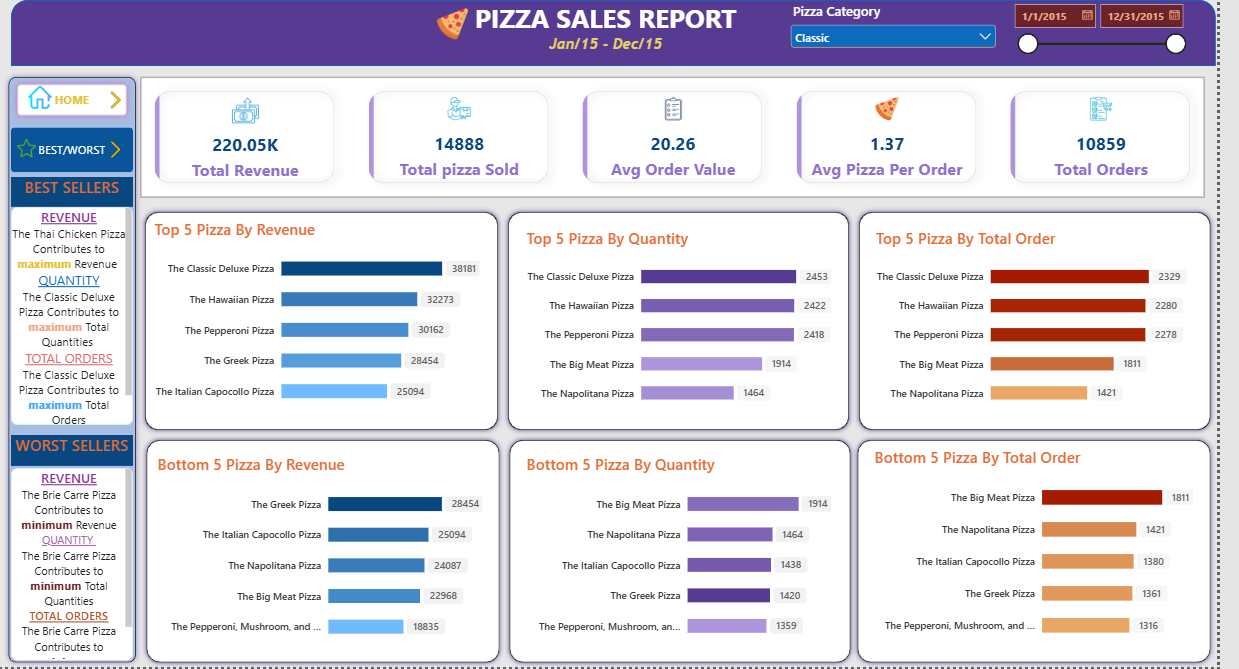

Layout of this report page (visuals, bound fields, positions):
{"tool":"powerbi","page":{"name":"BEST/WORST","canvas":[1500,820],"ordinal":1},"visuals":[{"type":"cardVisual","fields":{"Data":["public pizza_sales.Total Revenue","public pizza_sales.Total pizza Sold","public pizza_sales.avg_amount_spent_per_order","public pizza_sales.Average Pizza Per Order","public pizza_sales.Total Orders"]},"box":[177.7,94.5,1312.2,149.4],"z":0},{"type":"shape","box":[17.8,0,1481.1,81.1],"z":1000},{"type":"textbox","box":[529.6,0,440.7,59],"z":2000},{"type":"textbox","box":[621.5,42.4,256.3,51.6],"z":3000},{"type":"image","box":[529.3,7.4,63.3,43.3],"z":4000},{"type":"shape","box":[178.9,534.8,446.3,285.8],"z":9000},{"type":"shape","box":[625.2,534.8,431.5,285.8],"z":10000},{"type":"shape","box":[1053,534.8,446.3,285.8],"z":11000},{"type":"shape","box":[8.9,87.8,168.9,732.2],"z":15000},{"type":"textbox","box":[17.8,217.8,150,36.7],"z":16000},{"type":"textbox","box":[18.1,254.2,150,268.1],"z":17000},{"type":"textbox","box":[17.8,574.4,150,236.7],"z":18000},{"type":"textbox","box":[17.8,535.6,150,37.8],"z":19000},{"type":"slicer","fields":{"Values":["public pizza_sales.pizza_category"]},"box":[971.2,2.5,262.3,81.1],"z":20000},{"type":"slicer","fields":{"Values":["public pizza_sales.order_date"]},"box":[1245,0,221.2,73.8],"z":21000},{"type":"shape","box":[177,254.5,446.3,280.3],"z":21001},{"type":"shape","box":[623.3,254.5,431.5,280.3],"z":21002},{"type":"shape","box":[1054.8,254.5,444.4,280.3],"z":21003},{"type":"barChart","title":"Top 5 Pizza By Revenue","fields":{"Category":["public pizza_sales.pizza_name"],"Y":["public pizza_sales.Total Revenue"]},"box":[178.9,254.5,431.5,267.4],"z":21004},{"type":"barChart","title":"Bottom 5 Pizza By Revenue","fields":{"Category":["public pizza_sales.pizza_name"],"Y":["public pizza_sales.Total Revenue"]},"box":[183.3,544.4,431.5,267.4],"z":21005},{"type":"barChart","title":"Top 5 Pizza By Quantity","fields":{"Category":["public pizza_sales.pizza_name"],"Y":["public pizza_sales.Total pizza Sold"]},"box":[636.4,264.9,406.5,257.1],"z":21006},{"type":"barChart","title":"Bottom 5 Pizza By Quantity","fields":{"Category":["public pizza_sales.pizza_name"],"Y":["public pizza_sales.Total pizza Sold"]},"box":[636.4,544.2,406.5,266.2],"z":21007},{"type":"barChart","title":"Top 5 Pizza By Total Order","fields":{"Category":["public pizza_sales.pizza_name"],"Y":["public pizza_sales.Total Orders"]},"box":[1066.2,266.2,423.4,257.1],"z":21008},{"type":"barChart","title":"Bottom 5 Pizza By Total Order","fields":{"Category":["public pizza_sales.pizza_name"],"Y":["public pizza_sales.Total Orders"]},"box":[1064.5,535.1,423.5,276.1],"z":21009},{"type":"pageNavigator","box":[18.5,96.3,150.9,54.6],"z":21010},{"type":"pageNavigator","box":[18.5,156.5,150.9,55.6],"z":21011},{"type":"image","box":[39,105.5,30.5,29.7],"z":21012},{"type":"image","box":[136.2,140.1,21.1,87.5],"z":21013},{"type":"image","box":[136.4,79.3,21.1,87.5],"z":21014},{"type":"image","box":[25.7,141.4,23.6,80],"z":21015}]}

Visuals, with their boxes in screenshot pixels (x1, y1, x2, y2), scaled from the page's 1500x820 canvas onto the 1239x669 screenshot:
cardVisual - public pizza_sales.Total Revenue x public pizza_sales.Total pizza Sold: box(147, 77, 1231, 199)
shape: box(15, 0, 1238, 66)
textbox: box(437, 0, 801, 48)
textbox: box(513, 35, 725, 77)
image: box(437, 6, 489, 41)
shape: box(148, 436, 516, 668)
shape: box(516, 436, 873, 668)
shape: box(870, 436, 1238, 668)
shape: box(7, 72, 147, 668)
textbox: box(15, 178, 139, 208)
textbox: box(15, 207, 139, 426)
textbox: box(15, 469, 139, 662)
textbox: box(15, 437, 139, 468)
slicer - public pizza_sales.pizza_category: box(802, 2, 1019, 68)
slicer - public pizza_sales.order_date: box(1028, 0, 1211, 60)
shape: box(146, 208, 515, 436)
shape: box(515, 208, 871, 436)
shape: box(871, 208, 1238, 436)
"Top 5 Pizza By Revenue" barChart: box(148, 208, 504, 426)
"Bottom 5 Pizza By Revenue" barChart: box(151, 444, 508, 662)
"Top 5 Pizza By Quantity" barChart: box(526, 216, 861, 426)
"Bottom 5 Pizza By Quantity" barChart: box(526, 444, 861, 661)
"Top 5 Pizza By Total Order" barChart: box(881, 217, 1230, 427)
"Bottom 5 Pizza By Total Order" barChart: box(879, 437, 1229, 662)
pageNavigator: box(15, 79, 140, 123)
pageNavigator: box(15, 128, 140, 173)
image: box(32, 86, 57, 110)
image: box(113, 114, 130, 186)
image: box(113, 65, 130, 136)
image: box(21, 115, 41, 181)
